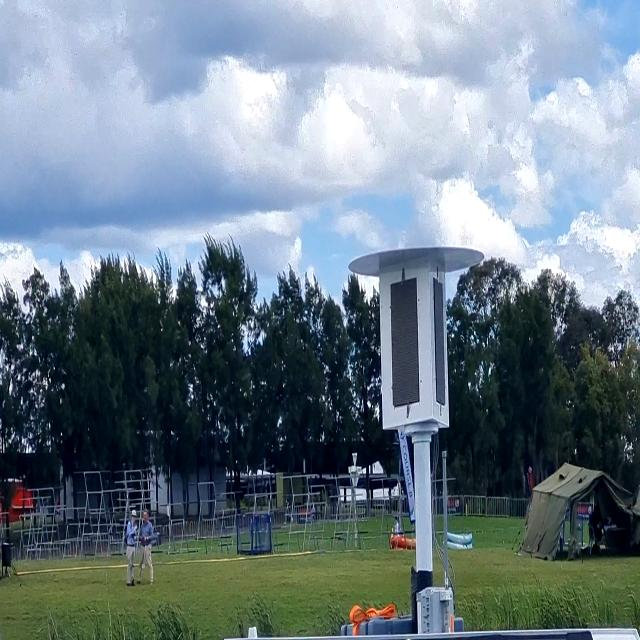led: (384, 270, 425, 414)
